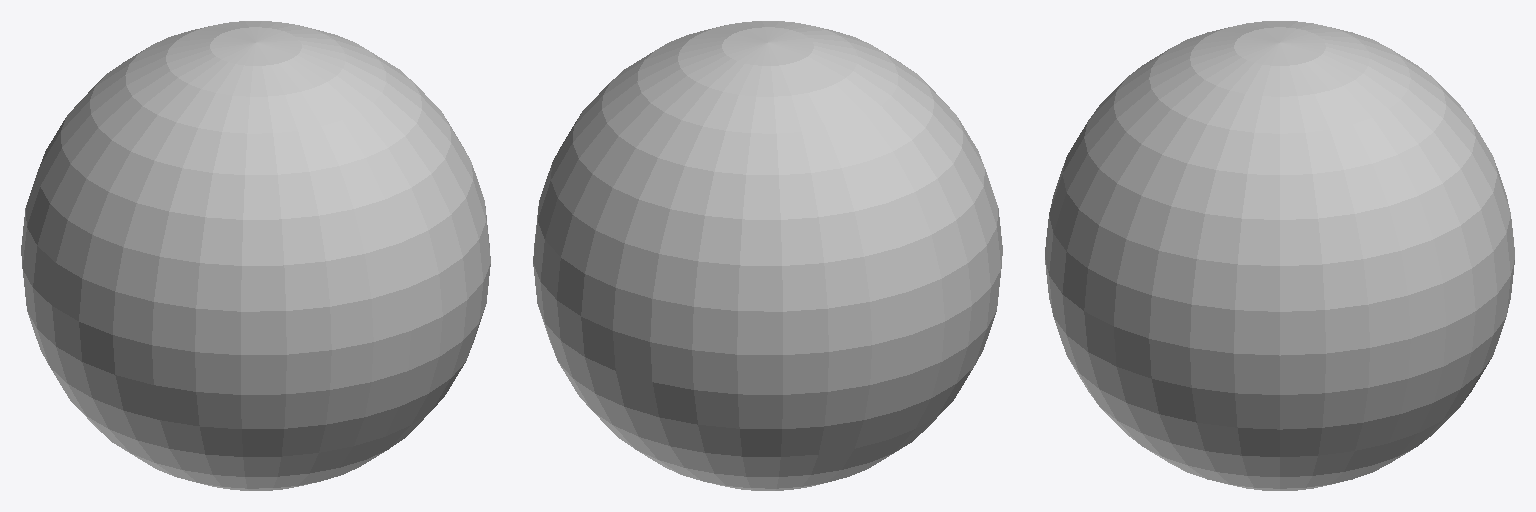
Rendered from DeathParticle.obj.
The picture shows the model from 3 angles: view 1: azimuth 30°, elevation 25°; view 2: azimuth 150°, elevation 25°; view 3: azimuth 270°, elevation 25°; orthographic projection.
Parts seen in each view (by area): view 1: 球; view 2: 球; view 3: 球.
Part boxes in pixels (x1,y1,x2,y2): 球: (21, 21, 490, 490); 球: (533, 21, 1002, 490); 球: (1045, 21, 1514, 490).
Bounding box in the file's own units: 0.9993 × 0.9993 × 0.9993.